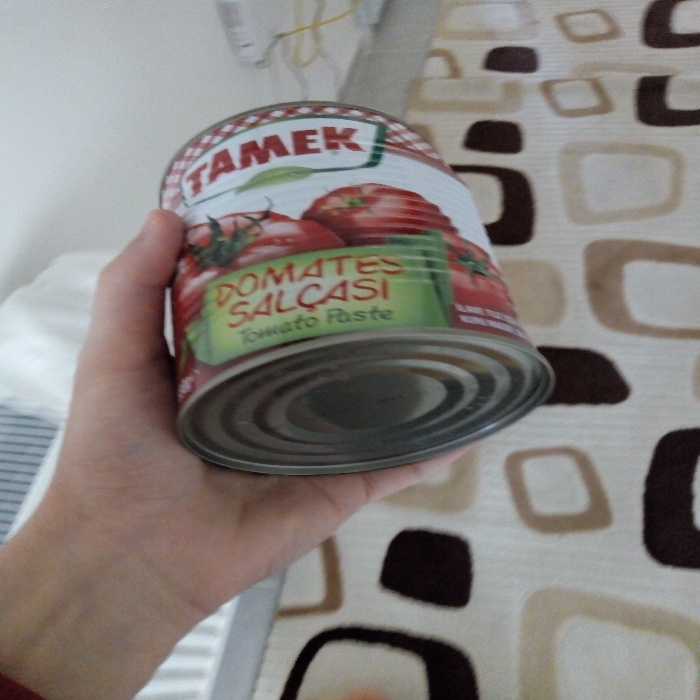salca: (157, 94, 556, 471)
